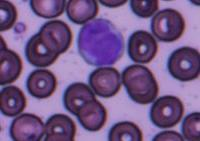M: (76, 17, 123, 67)
